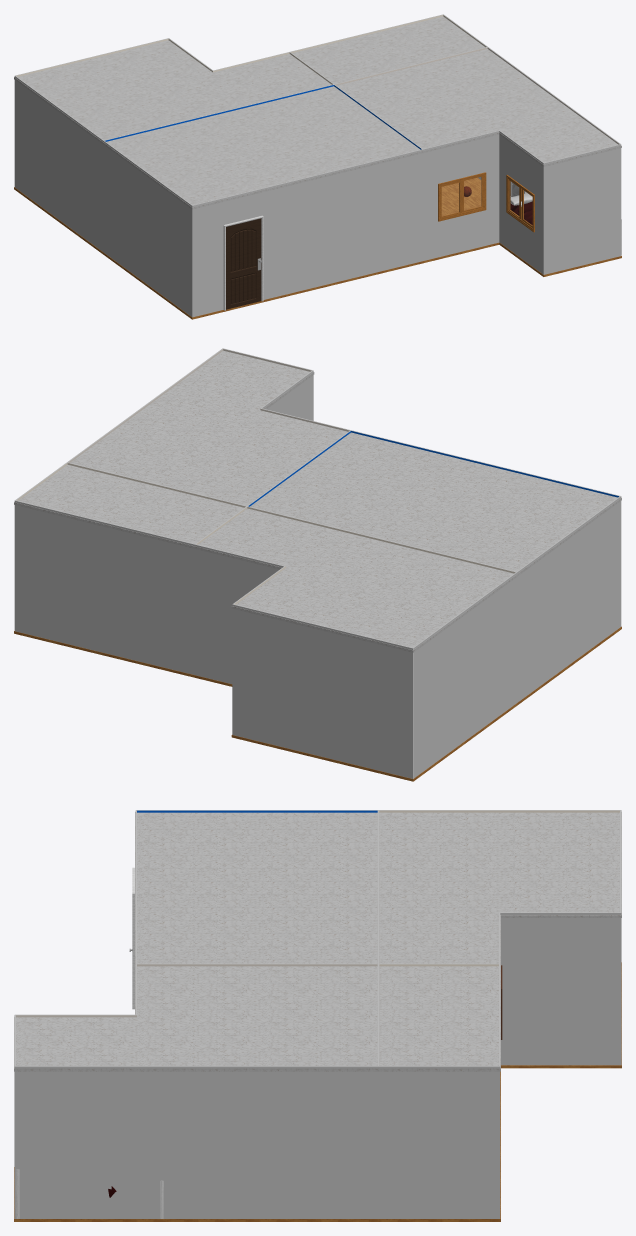
The model's file is ProcTHOR-Train-123.glb.
3 renders of one model, top to bottom at view 1: azimuth 30°, elevation 25°; view 2: azimuth 150°, elevation 25°; view 3: azimuth 270°, elevation 25°, orthographic. The views are drawn at different scales.
Visible parts, largest first — view 1: WallInside#wall|exterior|3.94|7.87|9.84|7.87, Ceiling#room|6|c, Ceiling#room|4|c, Ceiling#room|7|c, WallInside#wall|exterior|9.84|0.00|9.84|3.94, WallInside#wall|exterior|9.84|3.94|9.84|7.87, WallInside#wall|exterior|0.00|9.84|1.97|9.84, WallInside#wall|exterior|1.97|7.87|3.94|7.87, Ceiling#room|5|c, WallInside#wall|exterior|1.97|7.87|1.97|9.84, Doorway_9, Window_Slider_48x36 (×2) (+3 smaller); view 2: Ceiling#room|6|c, WallInside#wall|exterior|5.90|0.00|9.84|0.00, WallInside#wall|exterior|0.00|1.97|3.94|1.97, Ceiling#room|7|c, Ceiling#room|4|c, WallInside#wall|exterior|9.84|0.00|9.84|3.94, WallInside#wall|exterior|9.84|3.94|9.84|7.87, Ceiling#room|5|c, WallInside#wall|exterior|3.94|1.97|5.90|1.97, WallInside#wall|exterior|1.97|7.87|1.97|9.84, Floor#room|7|f, WallInside#wall|6|3.94|7.87|9.84|7.87 (+2 smaller); view 3: WallInside#wall|exterior|0.00|3.94|0.00|9.84, Ceiling#room|6|c, Ceiling#room|4|c, Ceiling#room|7|c, WallInside#wall|exterior|0.00|1.97|0.00|3.94, WallInside#wall|exterior|5.90|0.00|5.90|1.97, Ceiling#room|5|c, Floor#room|4|f, WallInside#wall|4|3.94|3.94|3.94|7.87, WallInside#wall|6|9.84|3.94|9.84|7.87, WallInside#wall|7|9.84|0.00|9.84|3.94, Floor#room|7|f.
Part boxes in pixels (x1,y1,x2,y2): WallInside#wall|exterior|3.94|7.87|9.84|7.87: (192, 149, 423, 317); Ceiling#room|6|c: (102, 86, 423, 209); Ceiling#room|4|c: (334, 49, 621, 166); Ceiling#room|7|c: (14, 40, 331, 144); WallInside#wall|exterior|9.84|0.00|9.84|3.94: (14, 76, 103, 252); WallInside#wall|exterior|9.84|3.94|9.84|7.87: (103, 141, 192, 316); WallInside#wall|exterior|0.00|9.84|1.97|9.84: (543, 144, 621, 274); WallInside#wall|exterior|1.97|7.87|3.94|7.87: (422, 130, 499, 260); Ceiling#room|5|c: (290, 16, 484, 84); WallInside#wall|exterior|1.97|7.87|1.97|9.84: (499, 131, 543, 274); Doorway_9: (223, 215, 263, 310); Window_Slider_48x36 (×2): (438, 172, 534, 232); Ceiling#room|6|c: (250, 432, 621, 575); WallInside#wall|exterior|5.90|0.00|9.84|0.00: (232, 604, 413, 778); WallInside#wall|exterior|0.00|1.97|3.94|1.97: (14, 500, 195, 674); Ceiling#room|7|c: (195, 508, 518, 652); Ceiling#room|4|c: (69, 350, 348, 505); WallInside#wall|exterior|9.84|0.00|9.84|3.94: (413, 572, 517, 778); WallInside#wall|exterior|9.84|3.94|9.84|7.87: (517, 496, 621, 702); Ceiling#room|5|c: (14, 465, 243, 548); WallInside#wall|exterior|3.94|1.97|5.90|1.97: (194, 544, 284, 683); WallInside#wall|exterior|1.97|7.87|1.97|9.84: (261, 370, 313, 420); Floor#room|7|f: (193, 675, 518, 781); WallInside#wall|6|3.94|7.87|9.84|7.87: (351, 430, 619, 497); WallInside#wall|exterior|0.00|3.94|0.00|9.84: (14, 1066, 379, 1218); Ceiling#room|6|c: (135, 811, 379, 965); Ceiling#room|4|c: (14, 965, 379, 1071); Ceiling#room|7|c: (377, 812, 621, 965); WallInside#wall|exterior|0.00|1.97|0.00|3.94: (378, 1066, 500, 1218); WallInside#wall|exterior|5.90|0.00|5.90|1.97: (500, 912, 621, 1065); Ceiling#room|5|c: (377, 966, 500, 1071); Floor#room|4|f: (14, 1167, 379, 1221); WallInside#wall|4|3.94|3.94|3.94|7.87: (137, 964, 378, 966); WallInside#wall|6|9.84|3.94|9.84|7.87: (137, 810, 377, 812); WallInside#wall|7|9.84|0.00|9.84|3.94: (379, 810, 619, 812); Floor#room|7|f: (500, 962, 621, 1115).
Size of what is drawn, in the model's own units: 9.89 by 2.79 by 9.88.
292 materials, 110 textured.
